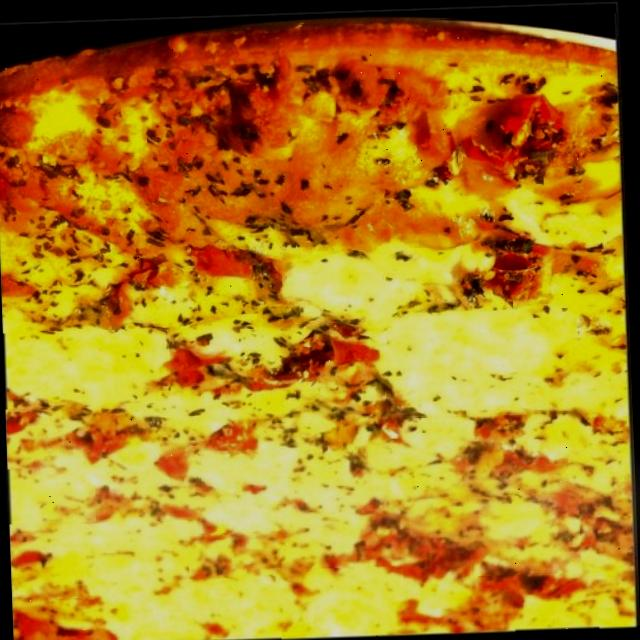cheese: (384, 306, 610, 418), (0, 326, 171, 408), (95, 576, 281, 640), (288, 247, 428, 324), (54, 520, 190, 598), (469, 493, 581, 576), (198, 450, 290, 533), (314, 565, 404, 632), (5, 466, 96, 524), (516, 600, 600, 634)
pizza: (0, 21, 638, 640)
